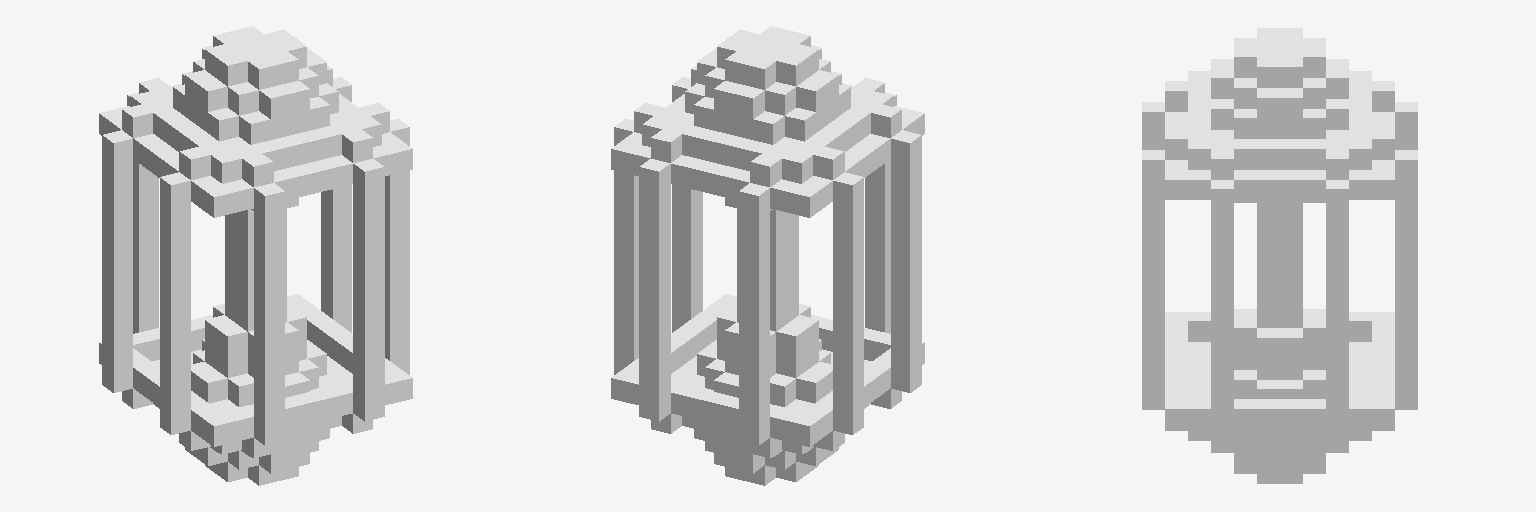
File: Ilumination-4.obj
3 renders of one model, left to right at view 1: azimuth 30°, elevation 25°; view 2: azimuth 150°, elevation 25°; view 3: azimuth 270°, elevation 25°, orthographic.
Visible parts, largest first — view 1: object 1; view 2: object 1; view 3: object 1.
Boxes of the visible parts, x1=… form: object 1: x1=99, y1=26, x2=412, y2=485; object 1: x1=611, y1=26, x2=924, y2=485; object 1: x1=1142, y1=28, x2=1417, y2=483.
Size of the model in its own units: 1.2 by 2 by 1.2.